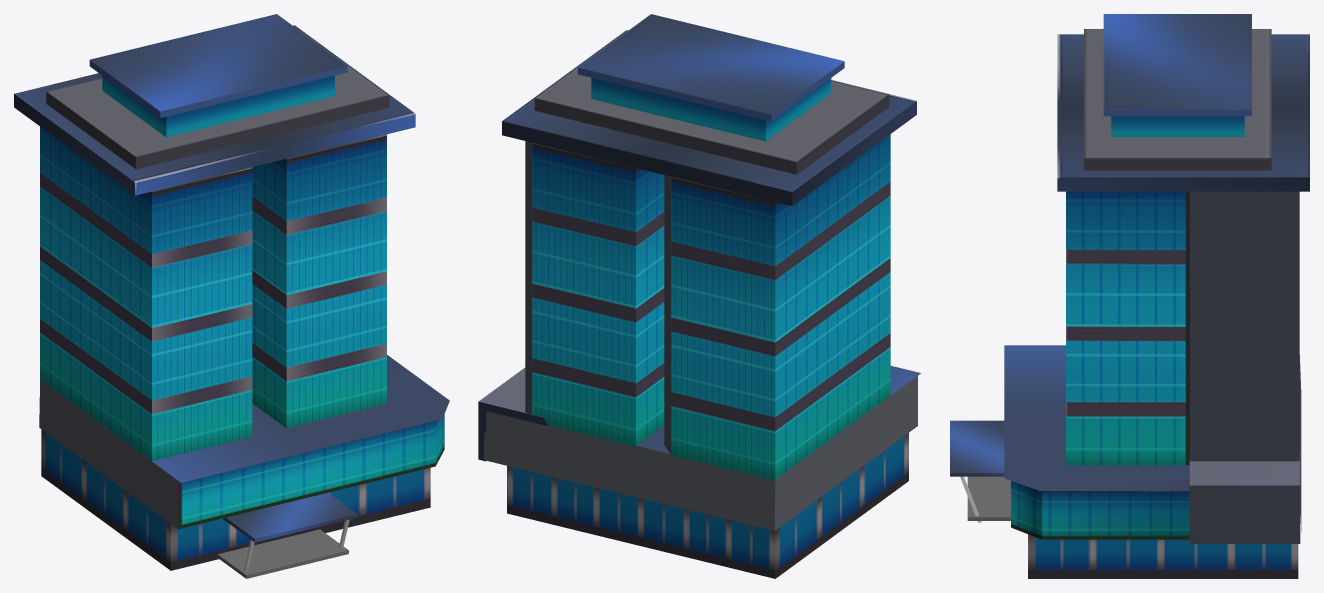
File: Tx_Exterior_Business_Office3.fbx
The picture shows the model from 3 angles, left to right: view 1: azimuth 30°, elevation 25°; view 2: azimuth 150°, elevation 25°; view 3: azimuth 270°, elevation 25°; orthographic projection. The views are drawn at different scales.
Visible parts, largest first — view 1: pasted__polySurface8; view 2: pasted__polySurface8; view 3: pasted__polySurface8.
Part boxes in pixels (x1,y1,x2,y2): pasted__polySurface8: [14, 14, 449, 578]; pasted__polySurface8: [478, 14, 920, 578]; pasted__polySurface8: [950, 14, 1309, 578].
Size of the model in its own units: 10.12 by 13.42 by 9.79.
1 material, 1 textured.
